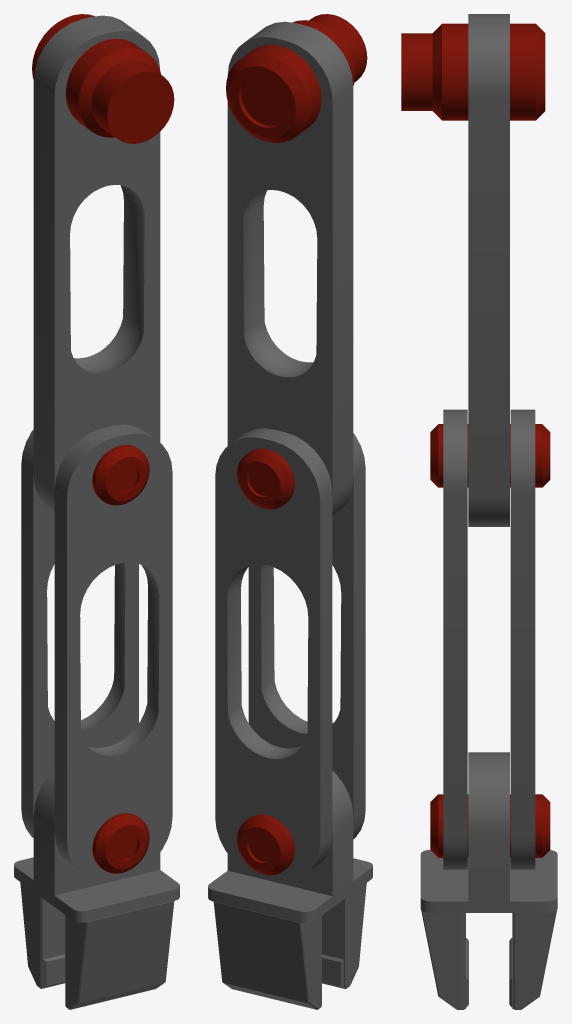
Rendered from BracoEsq.fbx.
3 views of the same model, side by side, from view 1: azimuth 30°, elevation 25°; view 2: azimuth 150°, elevation 25°; view 3: azimuth 270°, elevation 25° (orthographic).
Visible parts, largest first — view 1: BracoEsq_1; view 2: BracoEsq_1; view 3: BracoEsq_1.
Boxes of the visible parts, left/top/right/bottom form: BracoEsq_1: left=14, top=14, right=179, bottom=1009; BracoEsq_1: left=208, top=14, right=372, bottom=1009; BracoEsq_1: left=401, top=14, right=557, bottom=1009.
Size of the model in its own units: 89.82 by 781 by 115.
